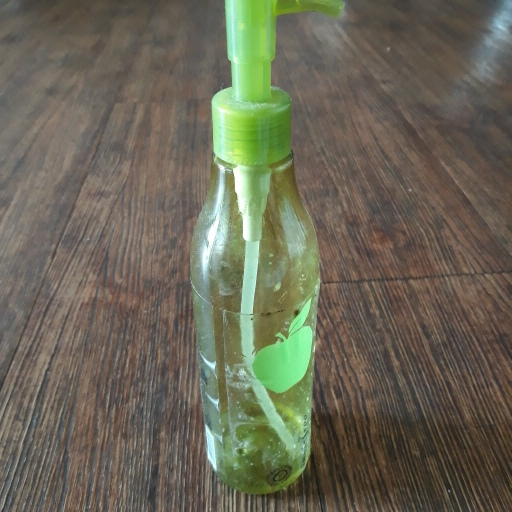Plastic_3: (183, 1, 348, 497)
